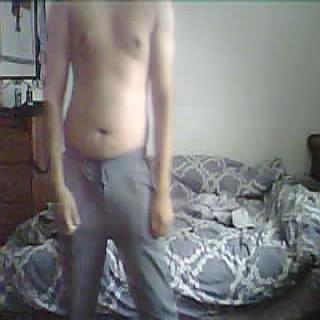Gray Sweatpants: (56, 147, 180, 320)
